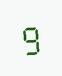nine: (19, 20, 41, 55)
